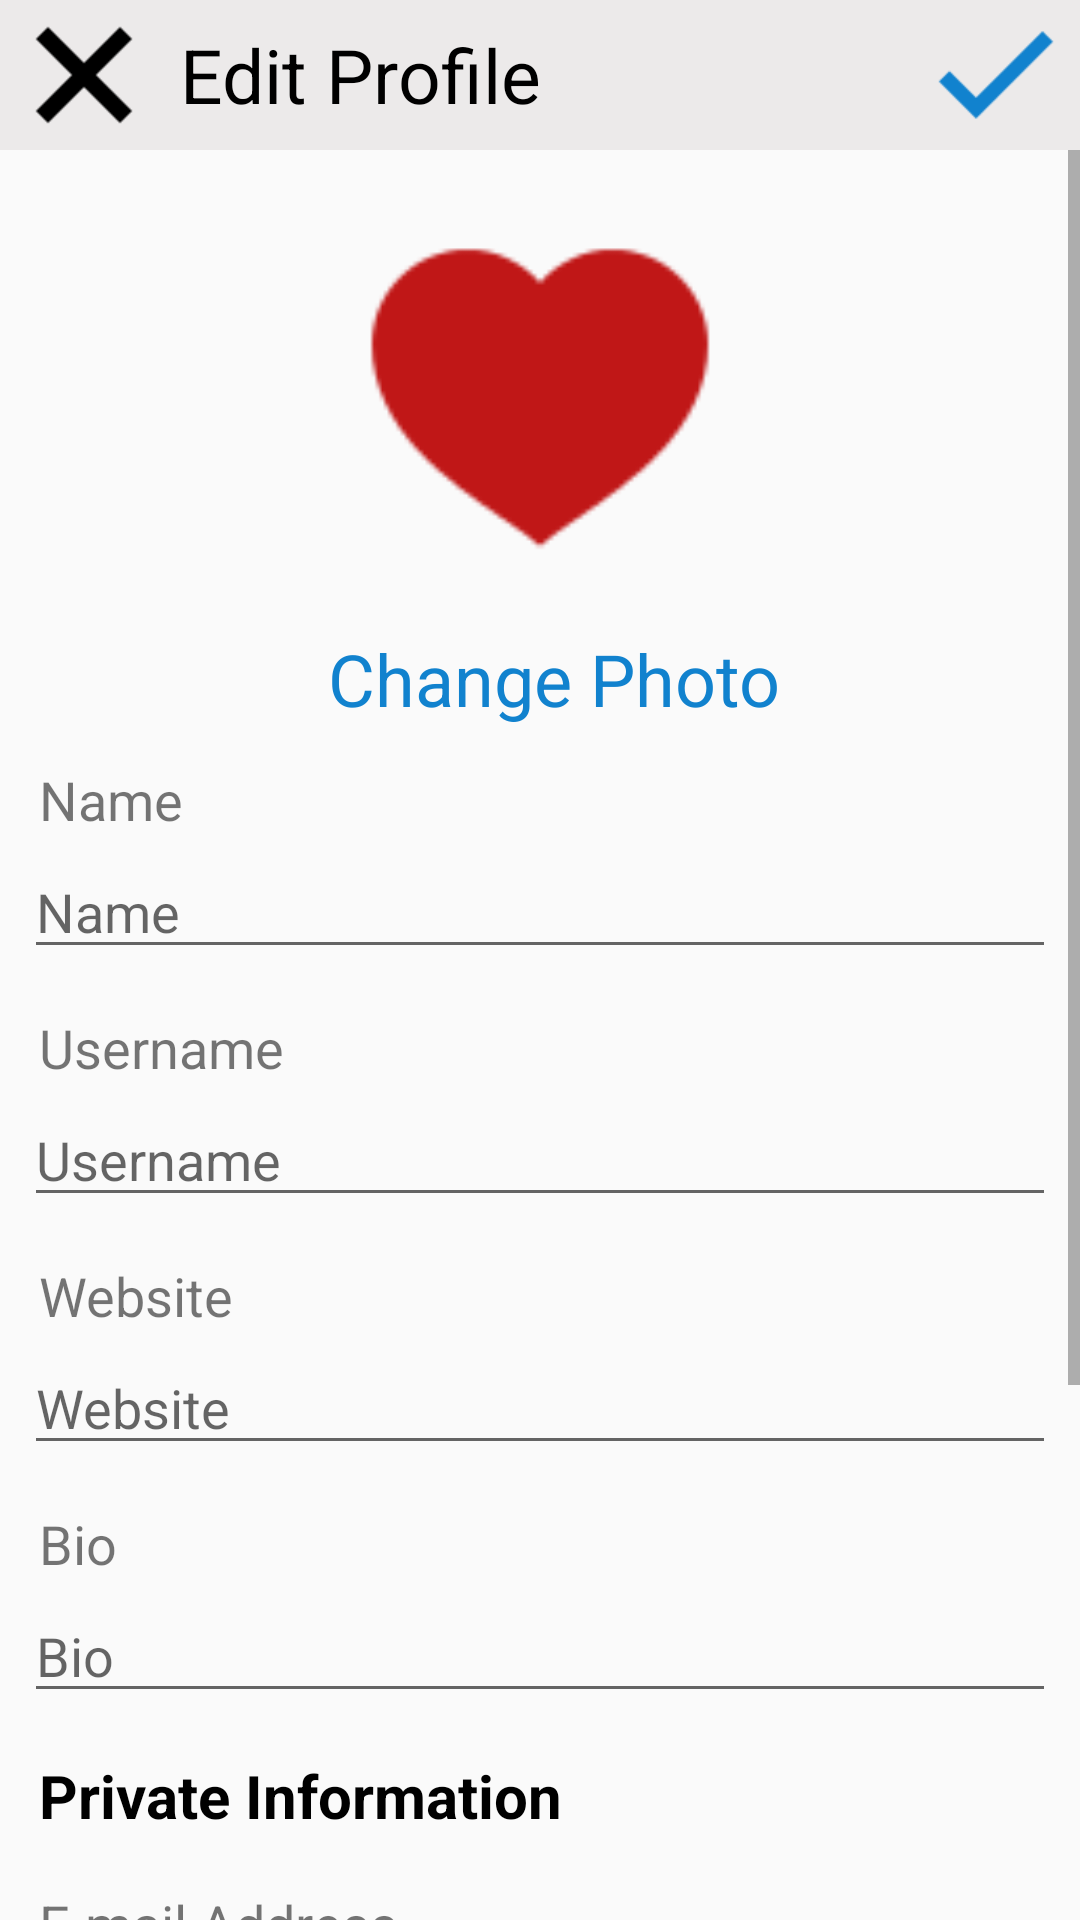

Named icons in this screenshot (1080px x 1920px) and their centers, point (x, y):
close: point (84, 75)
like: point (540, 398)
tick: point (996, 75)
